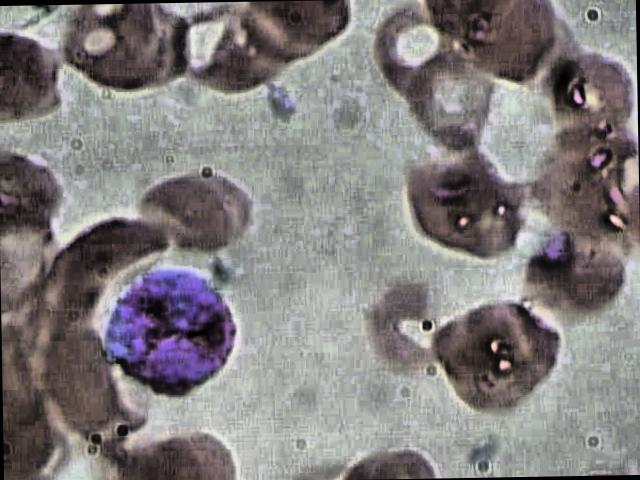Platelets: (261, 80, 303, 126)
RBC: (430, 298, 562, 416), (391, 150, 528, 260), (138, 162, 264, 256), (168, 2, 284, 96), (520, 225, 630, 324), (404, 52, 500, 152), (542, 42, 638, 142), (367, 0, 463, 97), (361, 280, 454, 374), (57, 4, 157, 76), (0, 29, 64, 126)
WBC: (91, 262, 252, 403)
